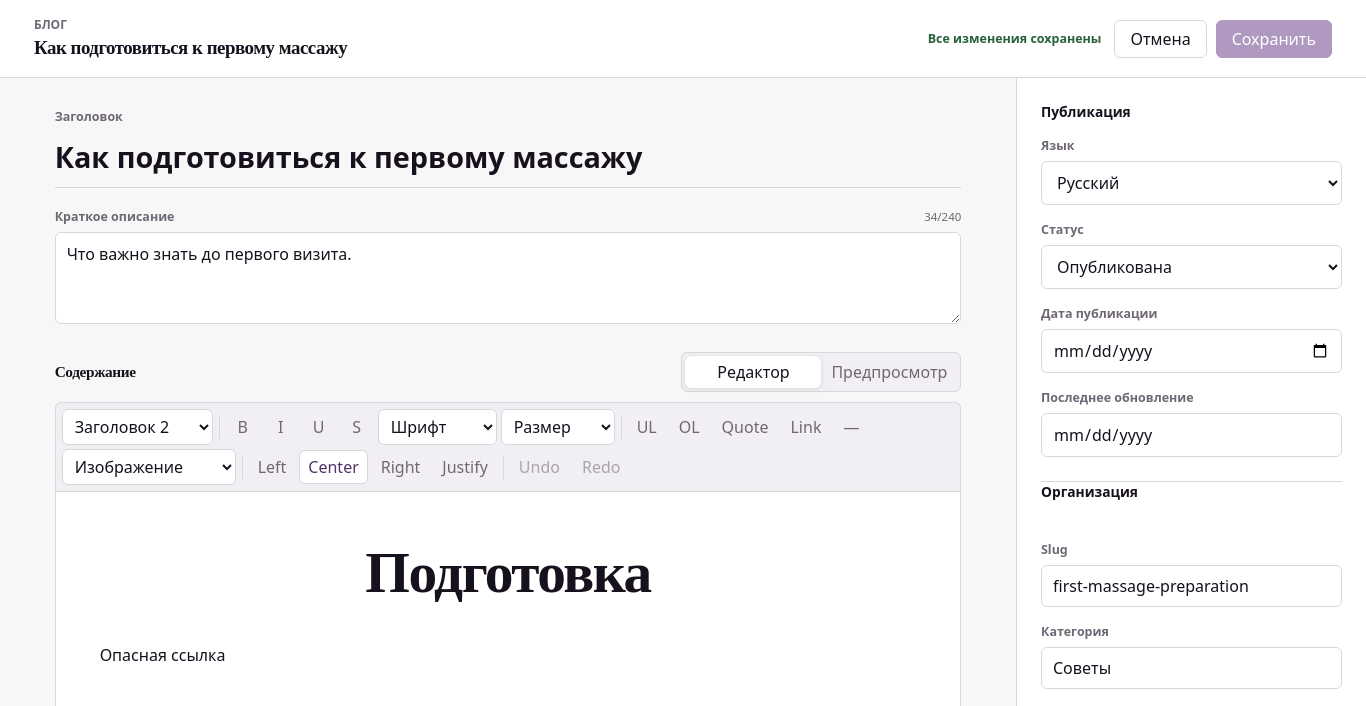
BlogArticleEditor › requires a consented media-library cover before publishing
The width and height of the screenshot is (1366, 706).
In the field labelled "Заголовок": (508, 160) [55, 132, 961, 188], type " обновлено"
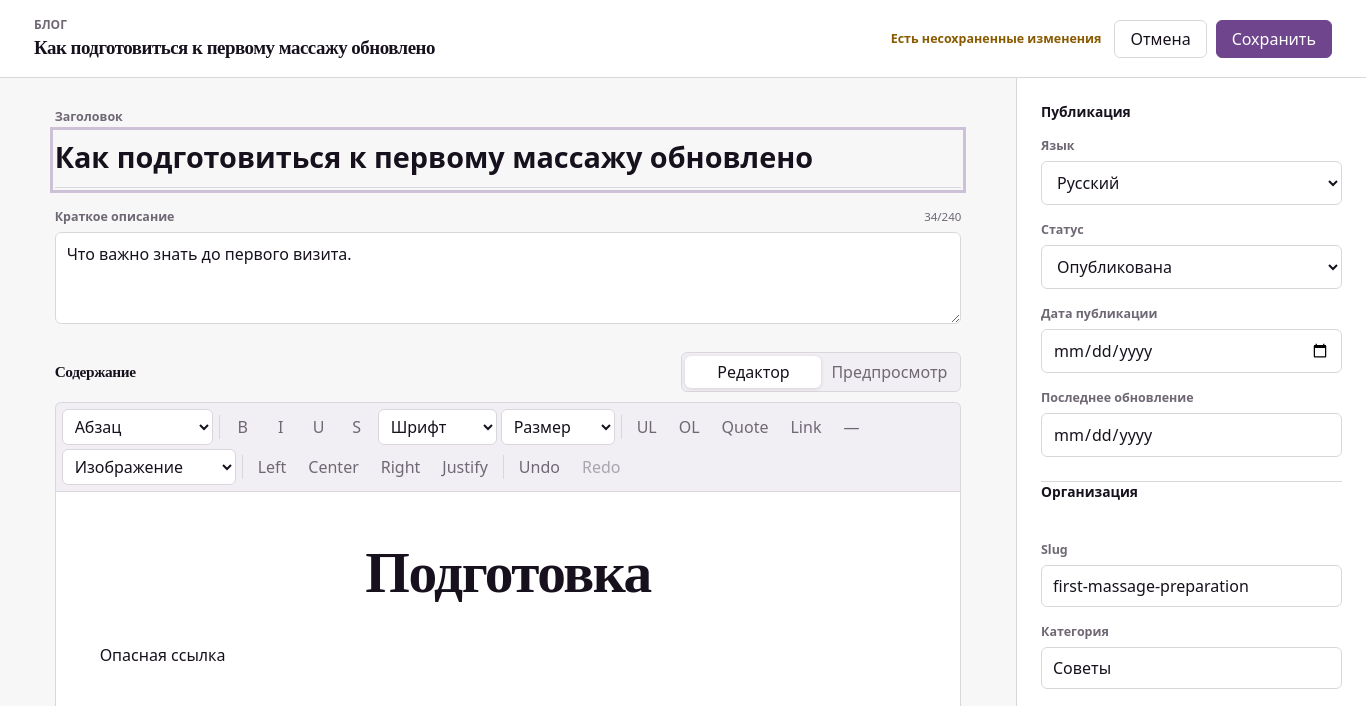
Click the button "Сохранить": (1274, 38) [1216, 20, 1332, 58]
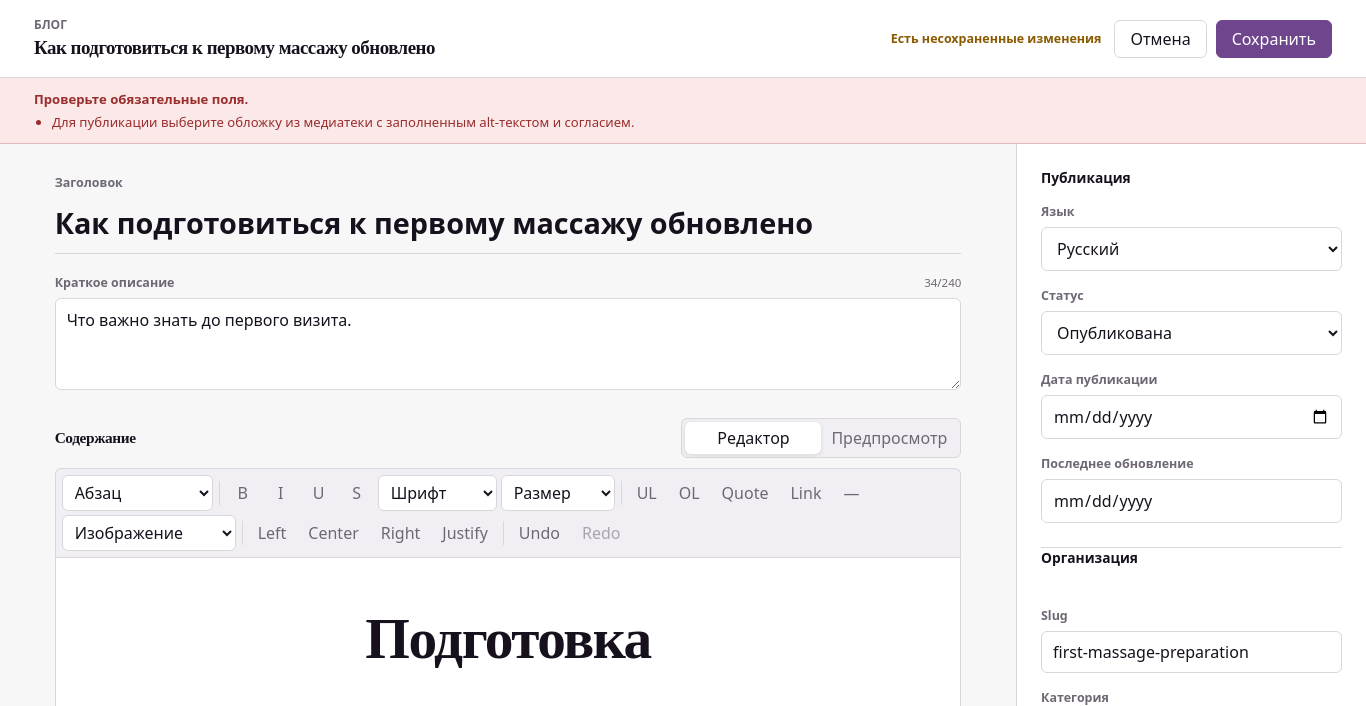
Result: the message that starts with "Проверьте обязательные поля." shows "выберите обложку из медиатеки" at [52, 113, 634, 131]
